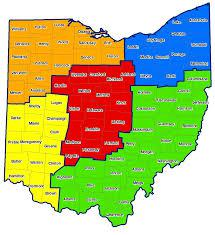ohio: (8, 5, 210, 225)
